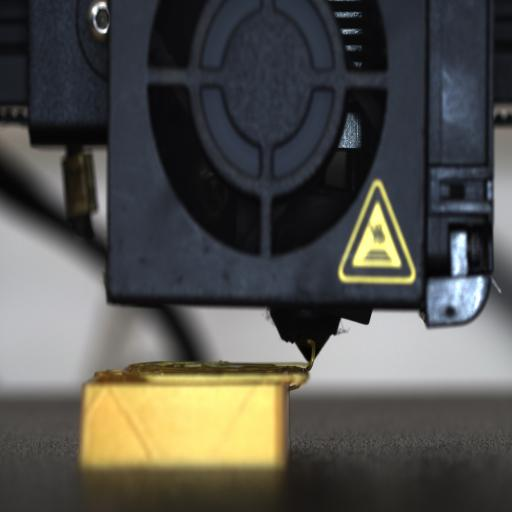layer_shift: (78, 378, 309, 395)
